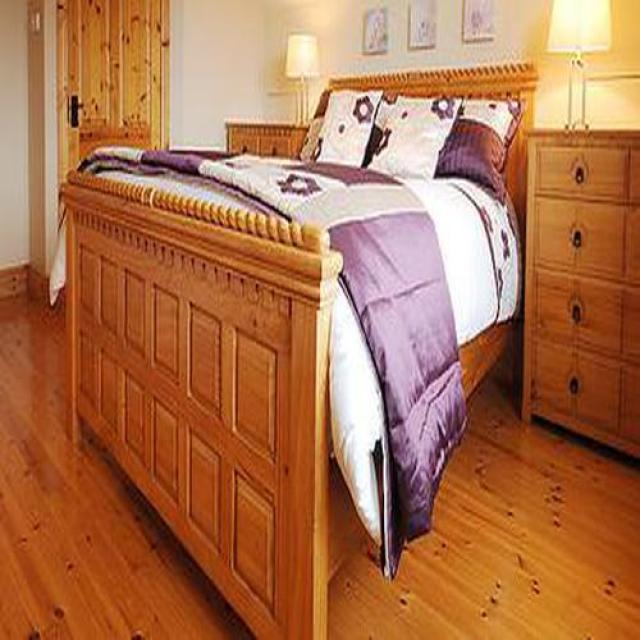bed: (61, 63, 539, 640)
